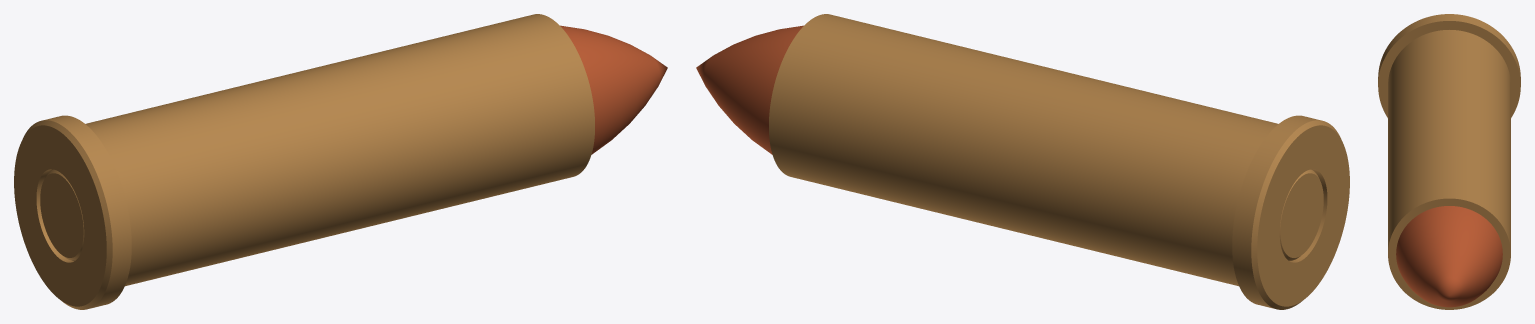
Rendered from round-357_h_magnum.glb.
The picture shows the model from 3 angles, left to right: view 1: azimuth 30°, elevation 25°; view 2: azimuth 150°, elevation 25°; view 3: azimuth 270°, elevation 25°; orthographic projection. The views are drawn at different scales.
Visible parts, largest first — view 1: cartridge:cartridge-model; view 2: cartridge:cartridge-model; view 3: cartridge:cartridge-model.
Boxes of the visible parts, left/top/right/bottom form: cartridge:cartridge-model: left=14, top=14, right=667, bottom=309; cartridge:cartridge-model: left=696, top=14, right=1349, bottom=309; cartridge:cartridge-model: left=1378, top=14, right=1520, bottom=309.
Bounding box in the file's own units: 0.0404 × 0.0112 × 0.0112.
